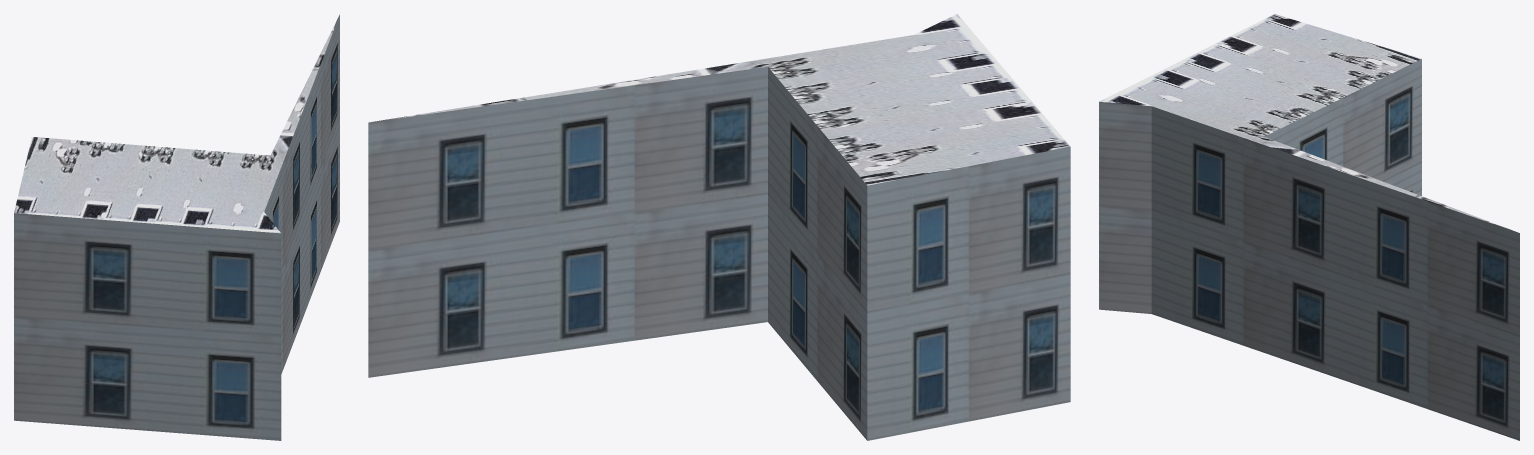
File: ResTex__1610.fbx
3 renders of one model, left to right at view 1: azimuth 30°, elevation 25°; view 2: azimuth 150°, elevation 25°; view 3: azimuth 270°, elevation 25°, orthographic. The views are drawn at different scales.
Parts seen in each view (by area): view 1: CityEngineMaterial_18_m, CityEngineMaterial_4_m; view 2: CityEngineMaterial_18_m, CityEngineMaterial_4_m; view 3: CityEngineMaterial_18_m, CityEngineMaterial_4_m.
Boxes of the visible parts, x1,y1,x2,y2 form: CityEngineMaterial_18_m: [14, 14, 339, 440]; CityEngineMaterial_4_m: [14, 15, 339, 233]; CityEngineMaterial_18_m: [368, 67, 1070, 440]; CityEngineMaterial_4_m: [375, 14, 1070, 185]; CityEngineMaterial_18_m: [1099, 59, 1519, 440]; CityEngineMaterial_4_m: [1099, 14, 1512, 230].
Size of the model in its own units: 13.56 by 6 by 11.01.
2 materials, 2 textured.
